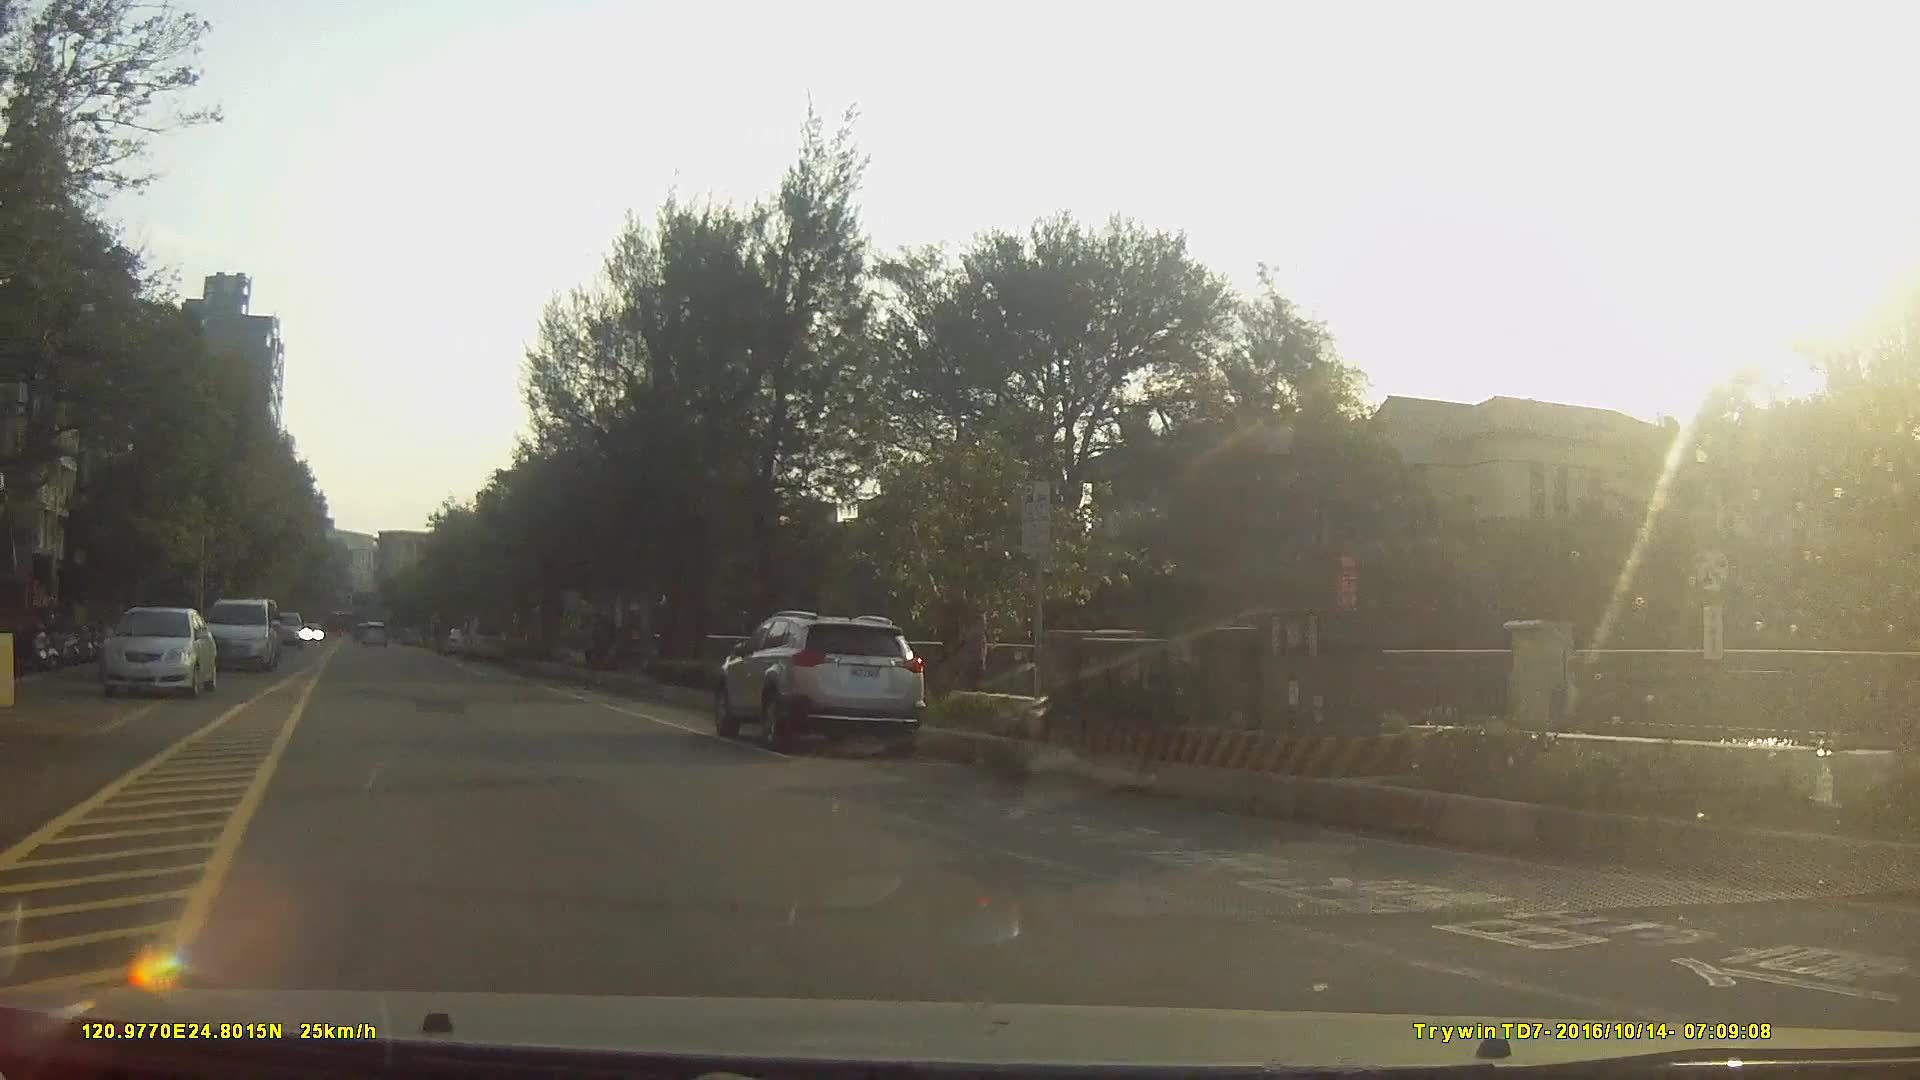vehicle: (717, 611, 924, 750), (99, 607, 218, 698), (208, 600, 280, 673), (458, 616, 510, 665), (262, 608, 305, 651)
